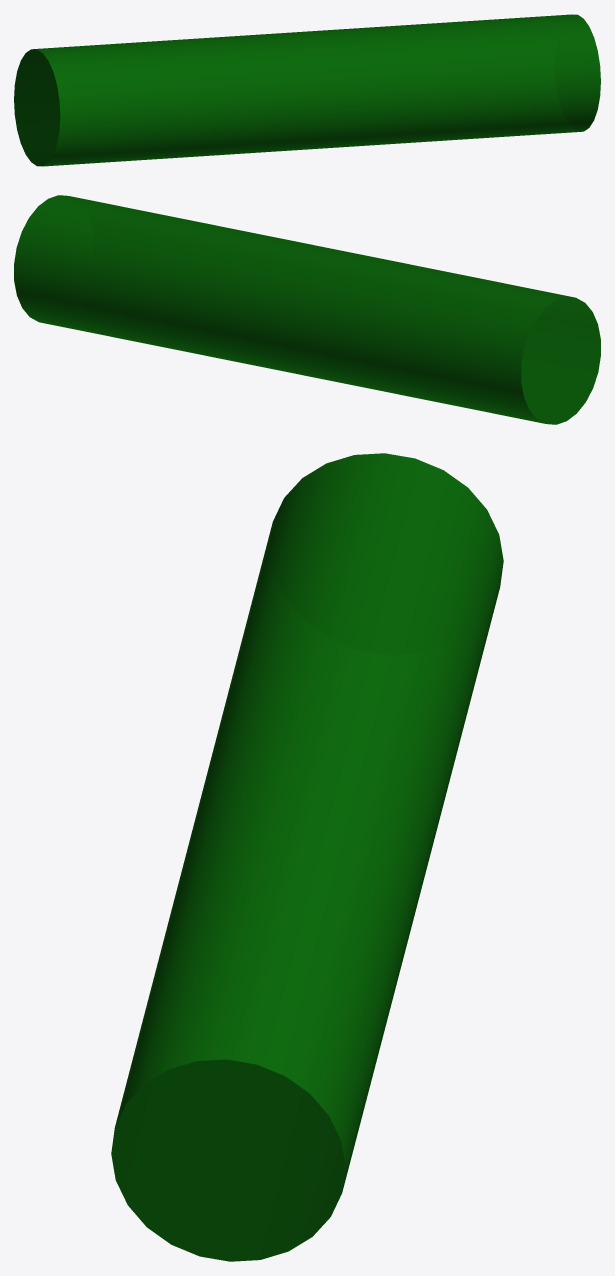
The model's file is Event_420094457_jet_3.fbx.
3 views of the same model, one above another, from view 1: azimuth 30°, elevation 25°; view 2: azimuth 150°, elevation 25°; view 3: azimuth 270°, elevation 25° (orthographic). The views are drawn at different scales.
Parts seen in each view (by area): view 1: Model; view 2: Model; view 3: Model.
Boxes of the visible parts, x1,y1,x2,y2 form: Model: [14, 14, 600, 166]; Model: [14, 195, 600, 424]; Model: [111, 453, 503, 1261].
Size of the model in its own units: 0.2026 by 0.0616 by 0.0664.
